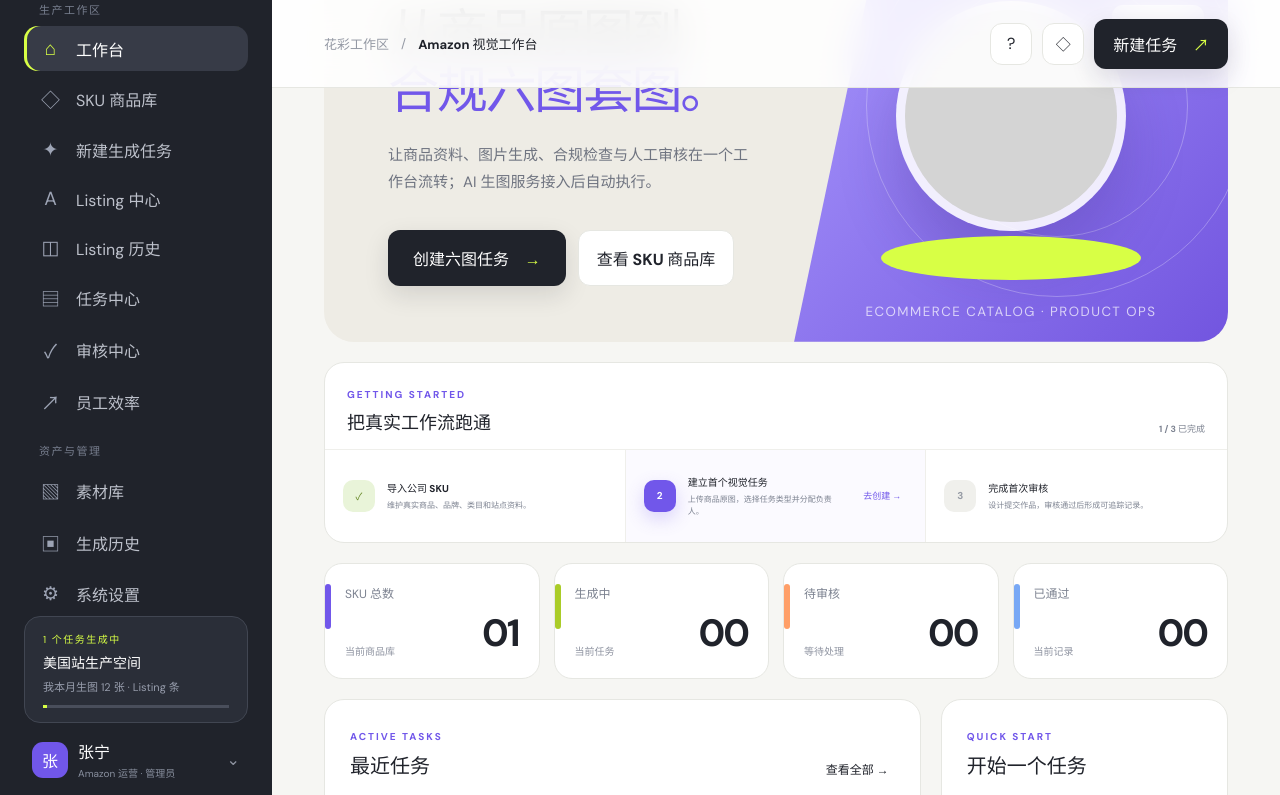
App 退出登录入口 › 从账号菜单二次确认后才退出
(page scrolled)
What coordinates should you click on to do the following:
click the button "张 张宁 Amazon 运营 · 管理员 ⌄"
I would click on:
 (136, 760)
Its box is x1=24 y1=731 x2=248 y2=788.
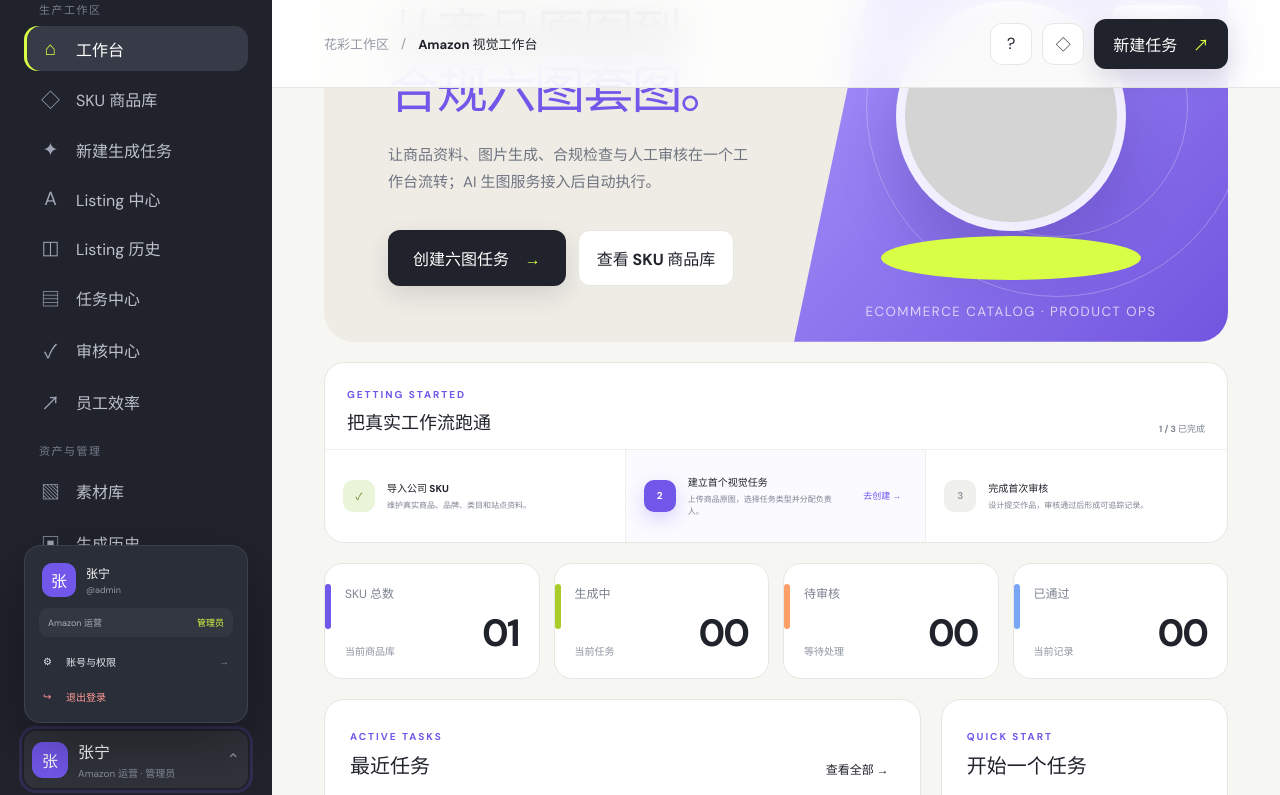
What coordinates should you click on to do the following:
click the button "↪ 退出登录"
I would click on:
 (136, 696)
Its box is x1=33 y1=679 x2=239 y2=714.
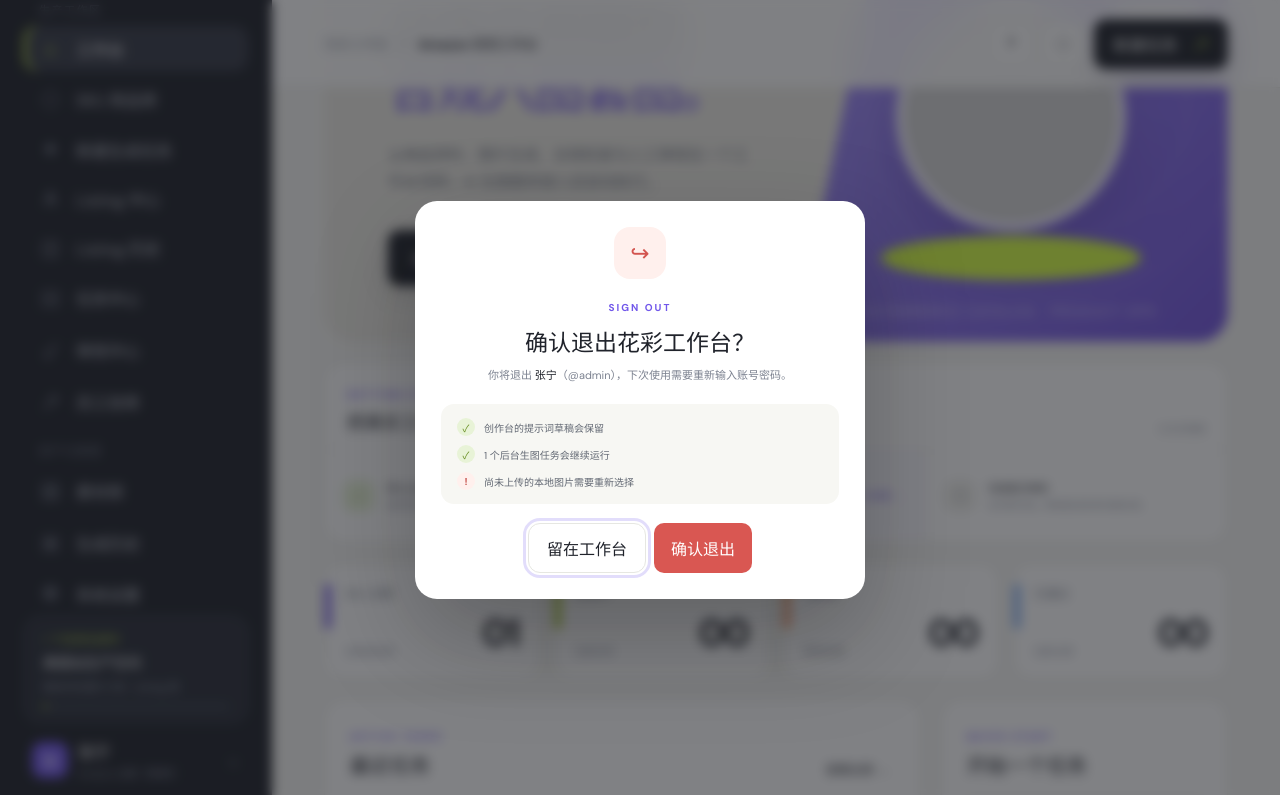
Check: the dialog "确认退出花彩工作台？" is shown, box x1=415 y1=201 x2=865 y2=599
What coordinates should you click on to do the following:
click the button "留在工作台"
I would click on:
 (587, 548)
Its box is x1=528 y1=523 x2=646 y2=573.
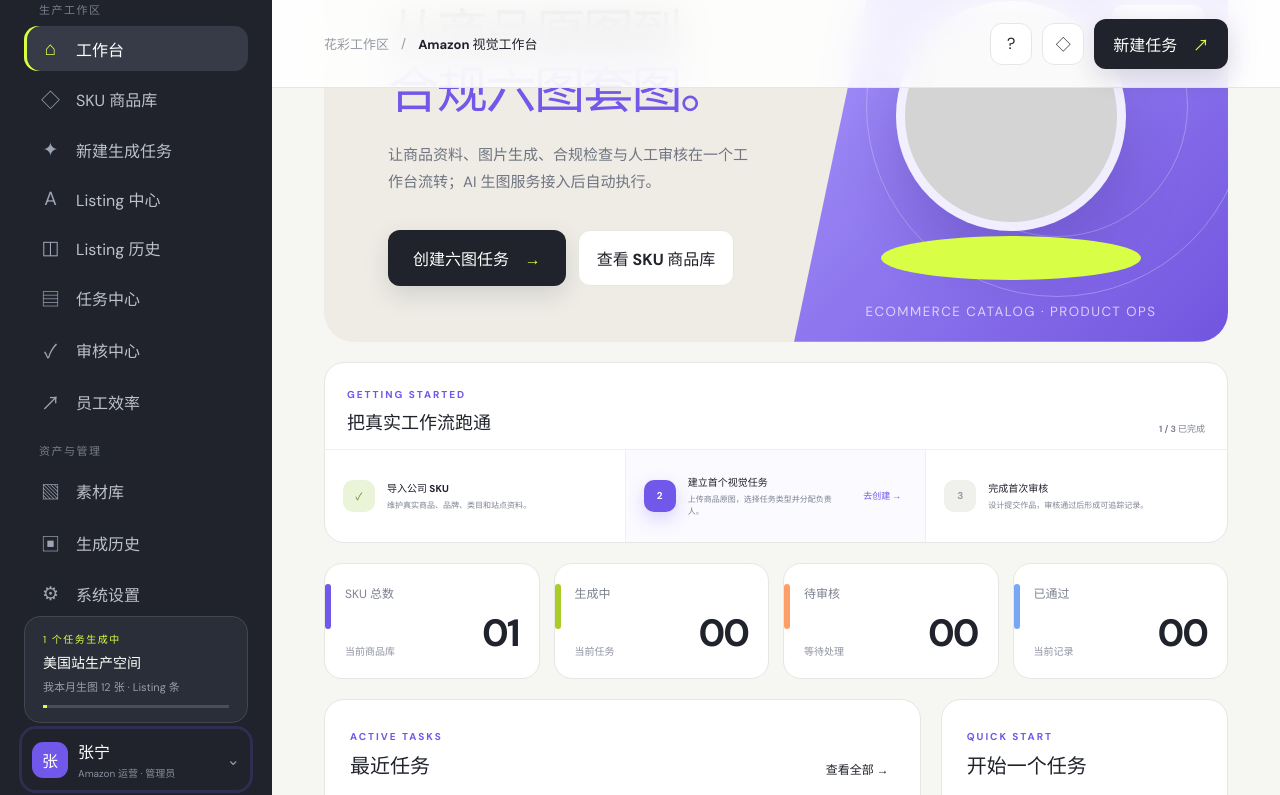
Check: the heading "确认退出花彩工作台？" is gone
What coordinates should you click on to do the following:
click the button "张 张宁 Amazon 运营 · 管理员 ⌄"
I would click on:
 (136, 760)
Its box is x1=24 y1=731 x2=248 y2=788.
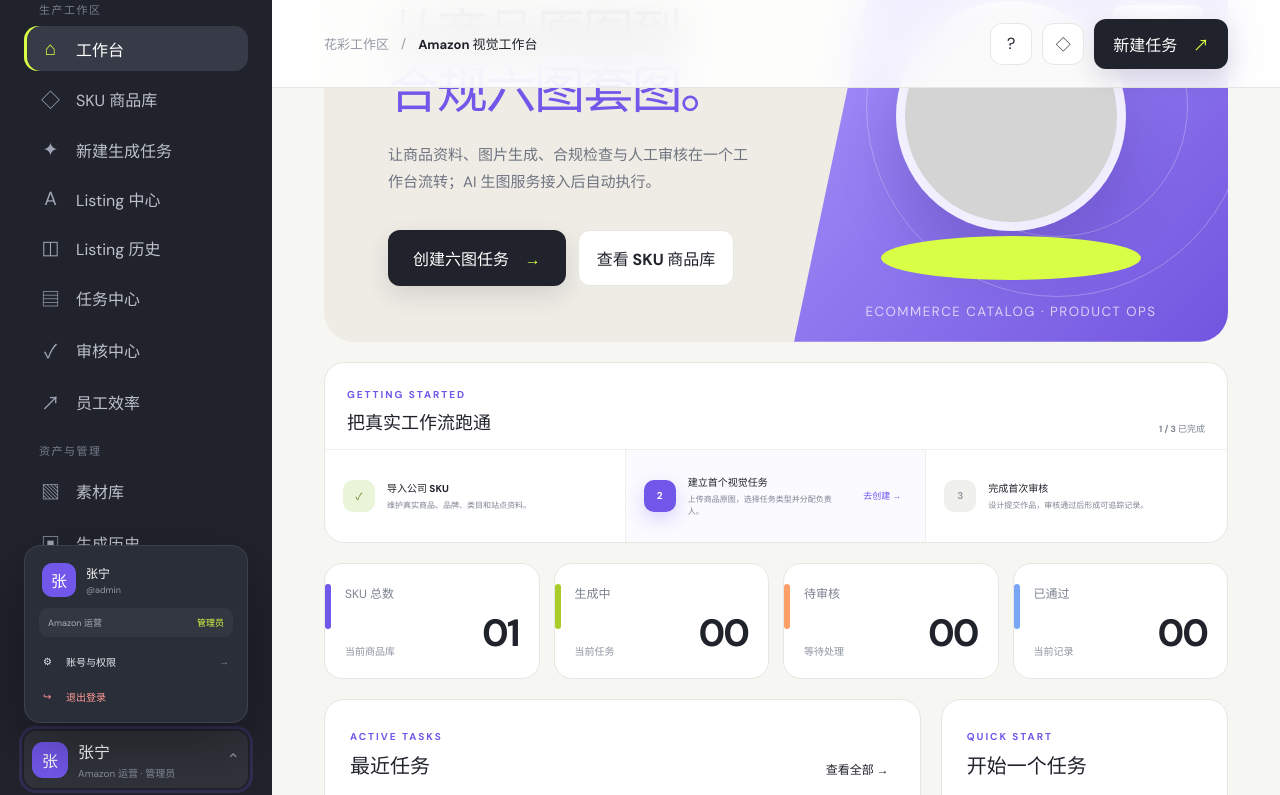
What coordinates should you click on to do the following:
click the button "↪ 退出登录"
I would click on:
 (136, 696)
Its box is x1=33 y1=679 x2=239 y2=714.
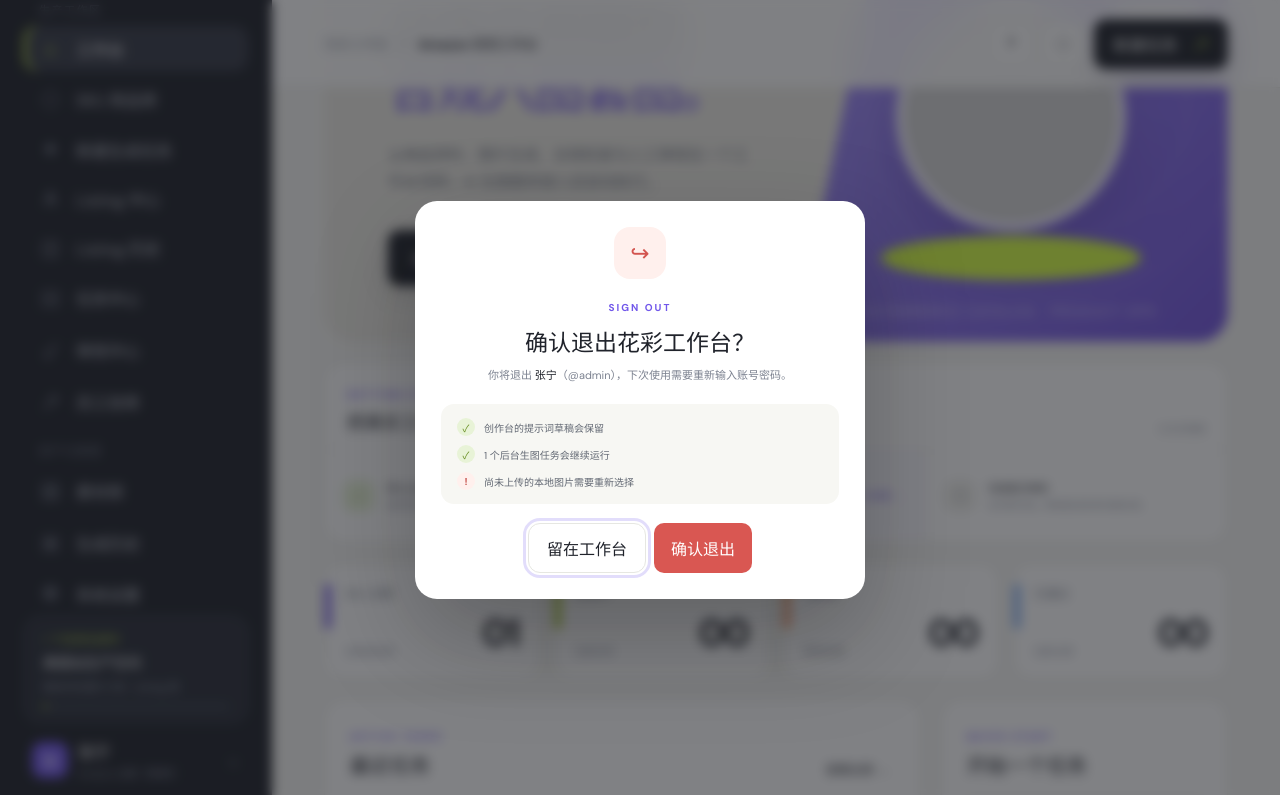
What coordinates should you click on to do the following:
click the button "确认退出"
I would click on:
 (703, 548)
Its box is x1=654 y1=523 x2=752 y2=573.
(page scrolled)
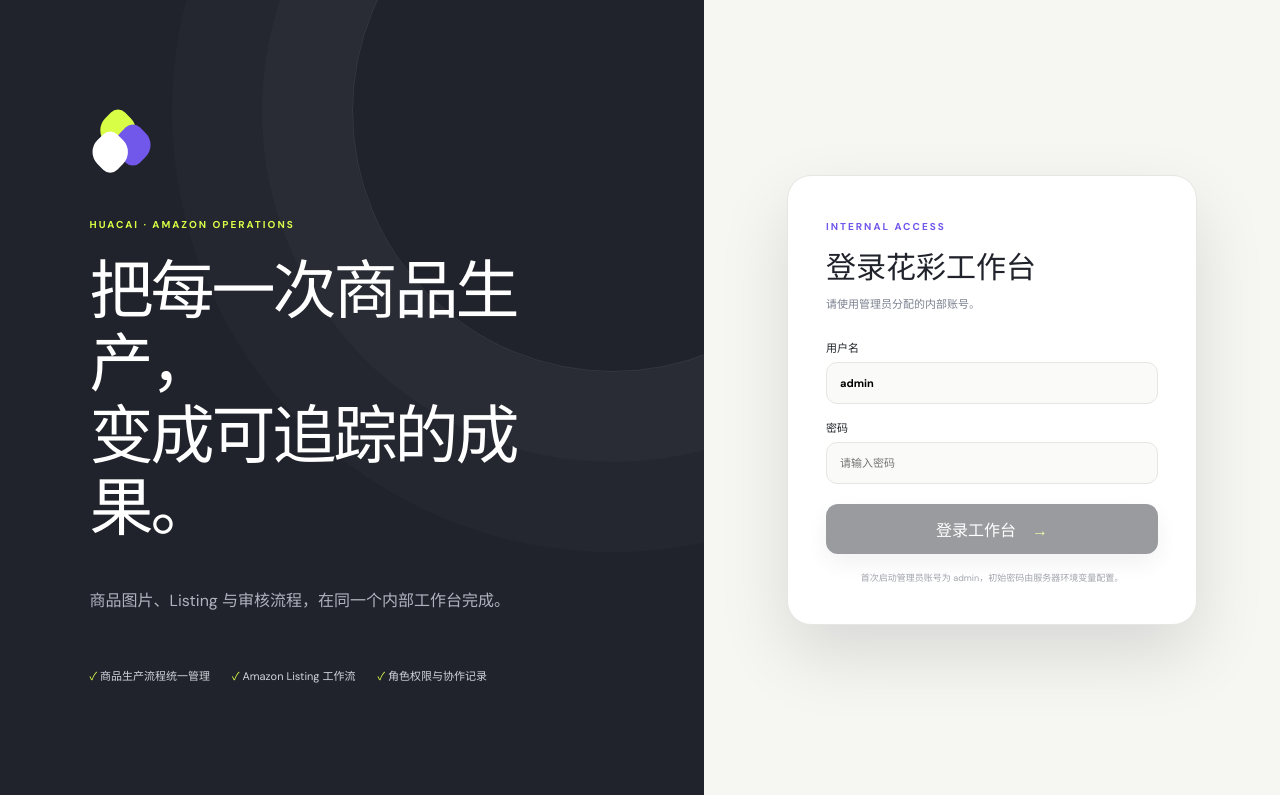
Check: the heading "登录花彩工作台" is shown, box x1=826 y1=248 x2=1036 y2=287
